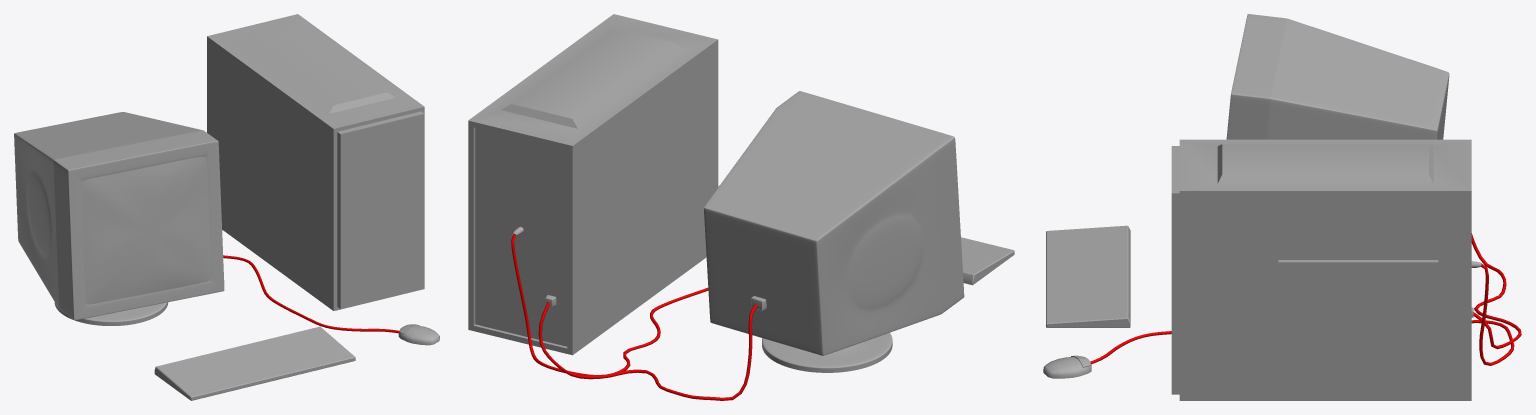
The picture shows the model from 3 angles, left to right: view 1: azimuth 30°, elevation 25°; view 2: azimuth 150°, elevation 25°; view 3: azimuth 270°, elevation 25°; orthographic projection. The views are drawn at different scales.
Visible parts, largest first — view 1: pc; view 2: pc; view 3: pc.
Part boxes in pixels (x1=…): pc: x1=14, y1=14, x2=439, y2=400; pc: x1=468, y1=14, x2=1014, y2=400; pc: x1=1043, y1=14, x2=1521, y2=400.
Size of the model in its own units: 2.56 by 1.4 by 2.77.
